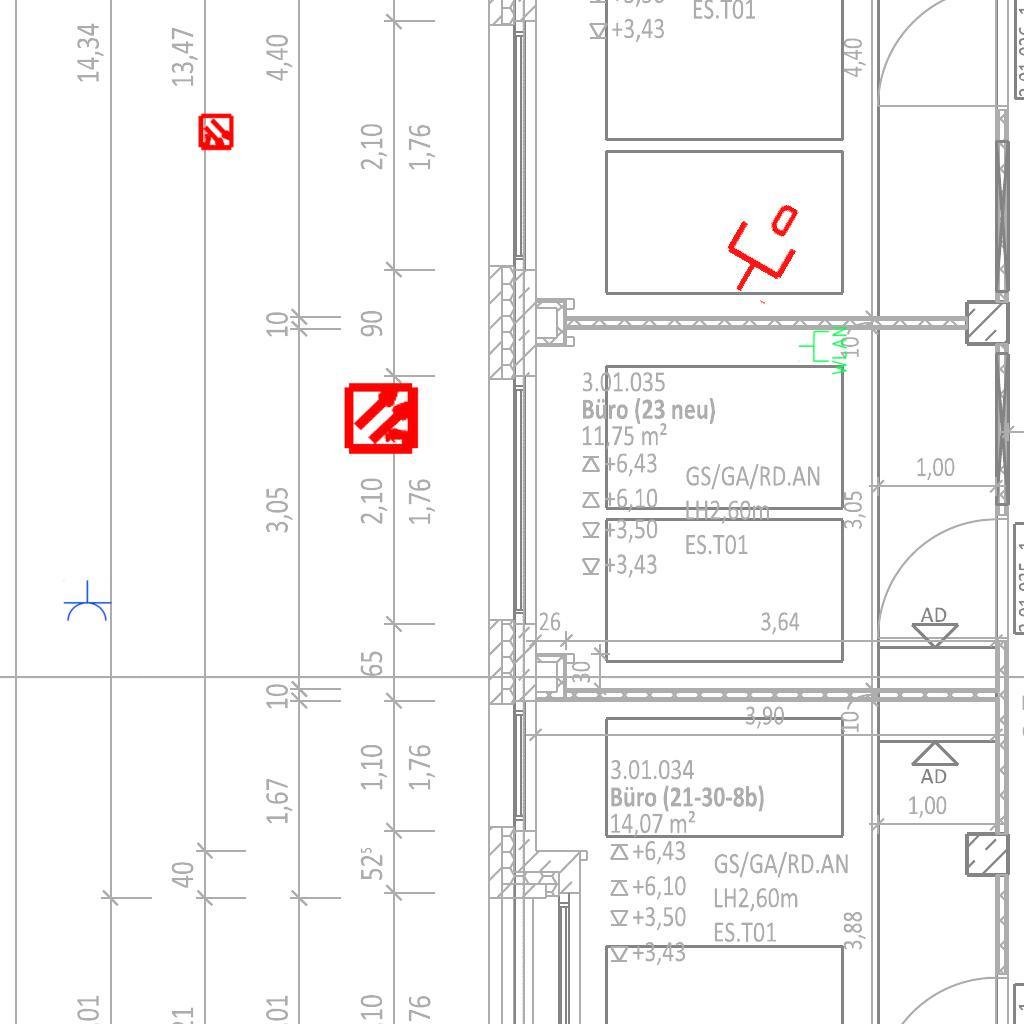Datenanschluss_einfach: (707, 187, 818, 309)
OT_Multisensormelder_(Kombination_RMO_WMD): (327, 362, 440, 475), (188, 105, 244, 161)
Schukosteckdose_einfach: (62, 580, 112, 623)
WLAN: (797, 325, 849, 377)
